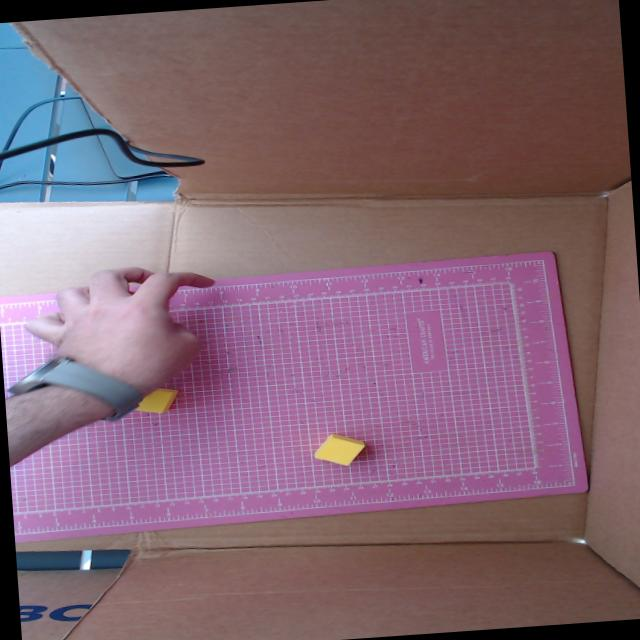yellowcube: (314, 432, 365, 465)
